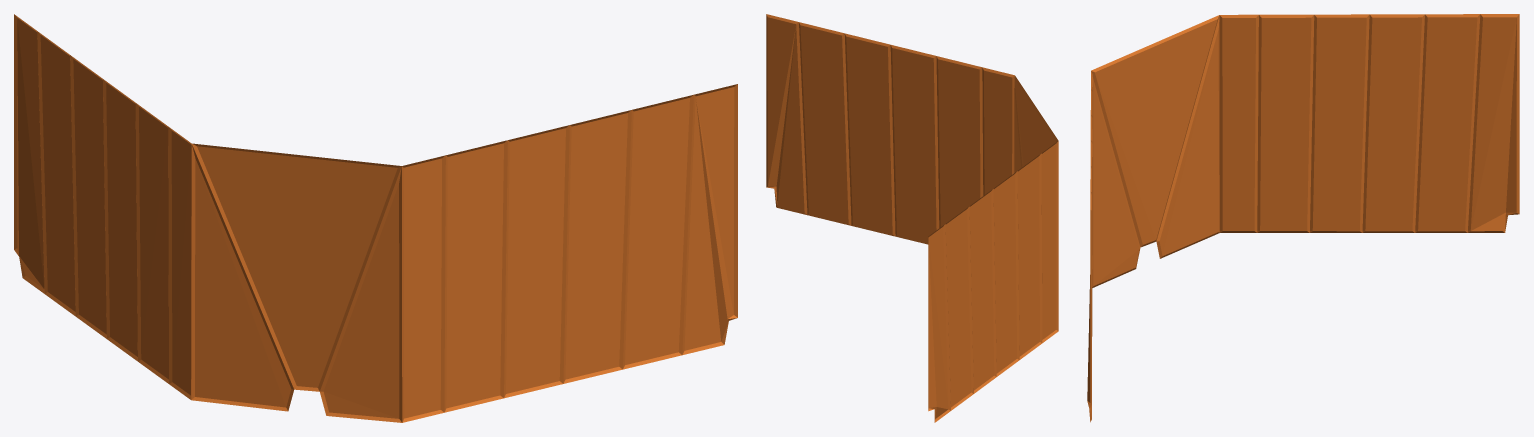
Rendered from Egyptian_wall.FBX.
The picture shows the model from 3 angles, left to right: view 1: azimuth 30°, elevation 25°; view 2: azimuth 150°, elevation 25°; view 3: azimuth 270°, elevation 25°; orthographic projection. The views are drawn at different scales.
Parts seen in each view (by area): view 1: Egyptian_wall1; view 2: Egyptian_wall1; view 3: Egyptian_wall1.
Part boxes in pixels (box(x1,y1,x2,y2)): Egyptian_wall1: box(14, 14, 737, 422); Egyptian_wall1: box(766, 14, 1058, 422); Egyptian_wall1: box(1087, 14, 1519, 422).
Size of the model in its own units: 6128 by 3183 by 5692.
